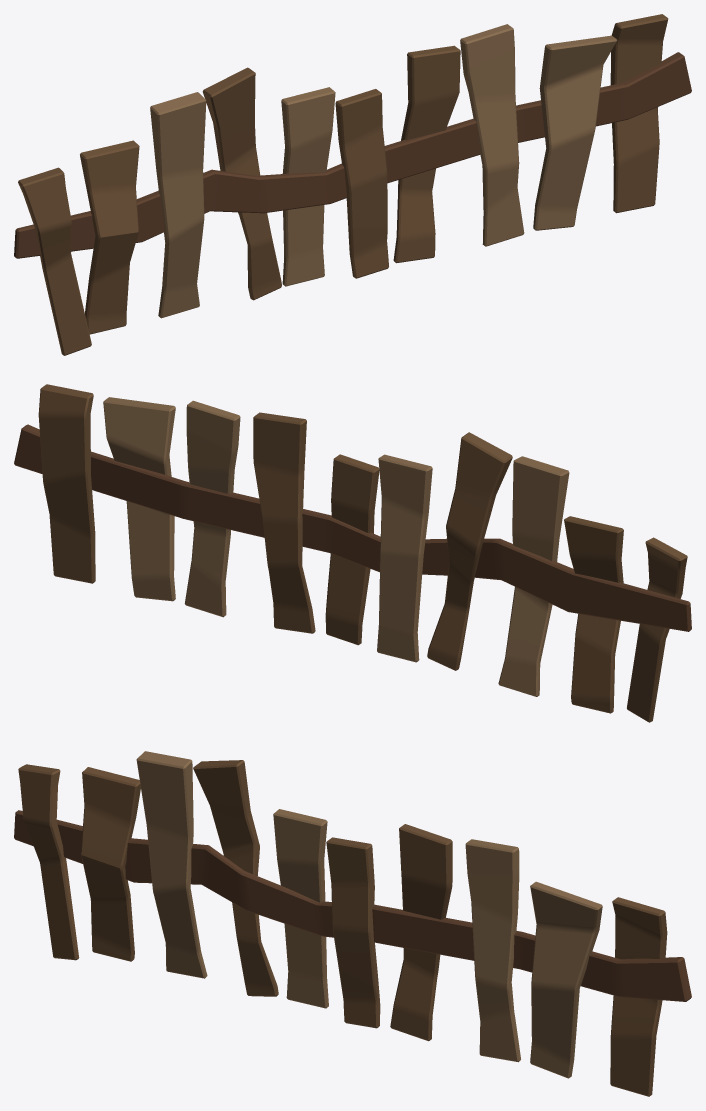
The model's file is Fence_Mesh.fbx.
3 views of the same model, one above another, from view 1: azimuth 30°, elevation 25°; view 2: azimuth 150°, elevation 25°; view 3: azimuth 330°, elevation 25° (orthographic).
Visible parts, largest first — view 1: Fence_Mesh; view 2: Fence_Mesh; view 3: Fence_Mesh.
Boxes of the visible parts, bbox=[...] form: Fence_Mesh: bbox=[14, 14, 691, 355]; Fence_Mesh: bbox=[14, 384, 691, 722]; Fence_Mesh: bbox=[14, 751, 691, 1096].
Bounding box in the file's own units: 455 × 156 × 20.42.
